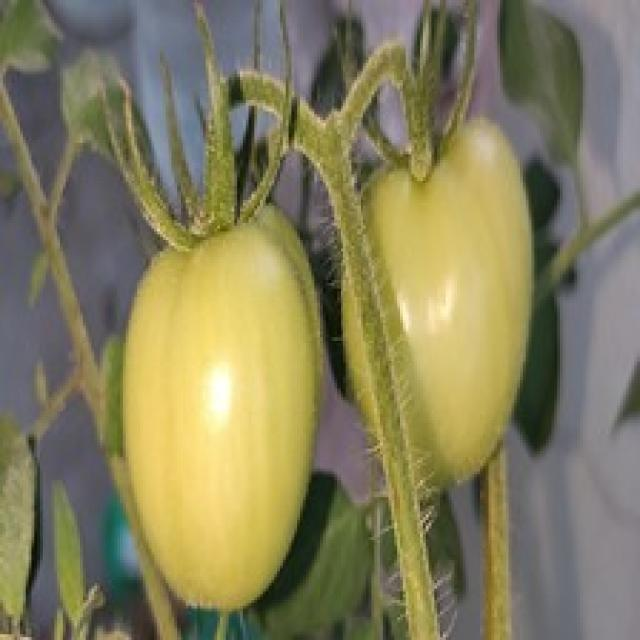yesil: (96, 68, 526, 606)
